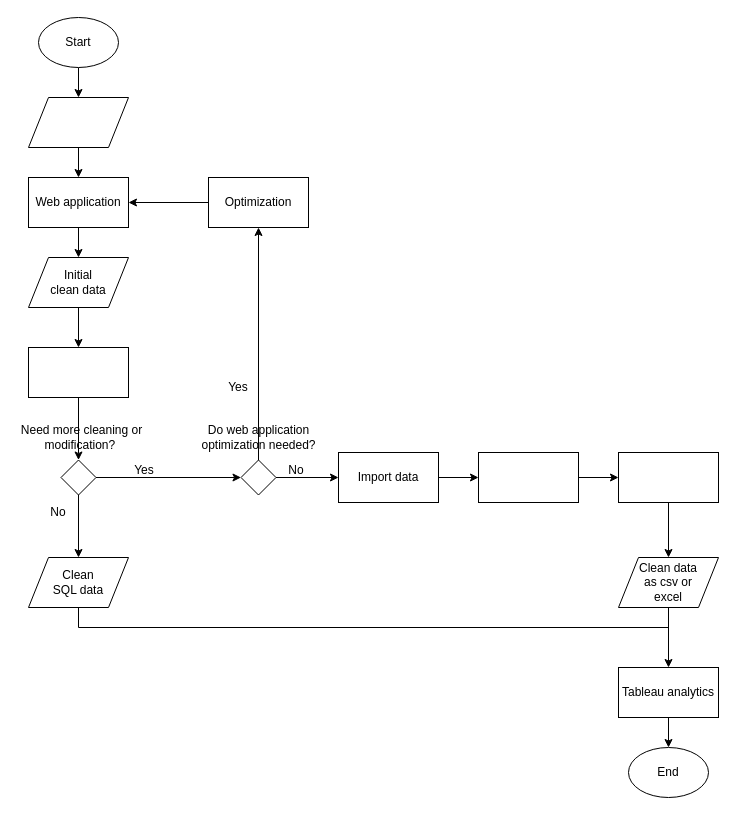
Some shapes in this 736 by 815 pixel diagram are drawn without their labels. Each missing label, with the box of its shape:
Database server: (28, 346, 128, 398)
Export cleaned data: (618, 452, 718, 502)
Input data: (28, 96, 128, 148)
Manual data modification: (478, 452, 578, 502)
